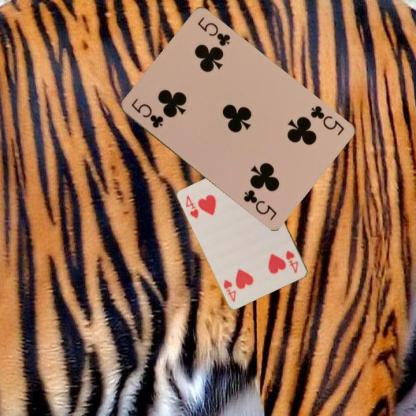4h: (183, 193, 200, 220), (283, 248, 299, 274)
5c: (307, 103, 345, 137), (128, 96, 165, 130)
